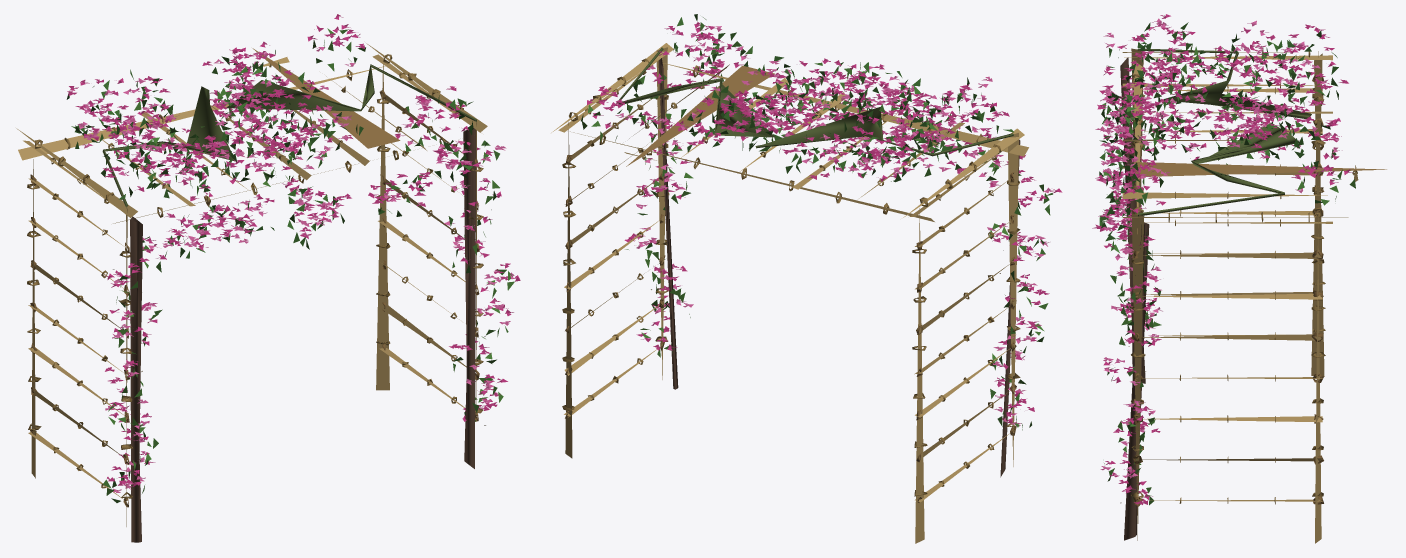
File: gian_bong_giay.glb
3 views of the same model, side by side, from view 1: azimuth 30°, elevation 25°; view 2: azimuth 150°, elevation 25°; view 3: azimuth 270°, elevation 25° (orthographic). The views are drawn at different scales.
Visible parts, largest first — view 1: gian_bong_giay; view 2: gian_bong_giay; view 3: gian_bong_giay.
Boxes of the visible parts, x1=… form: gian_bong_giay: x1=16, y1=14, x2=520, y2=542; gian_bong_giay: x1=551, y1=14, x2=1062, y2=543; gian_bong_giay: x1=1092, y1=14, x2=1386, y2=543.
Size of the model in its own units: 3.11 by 2.76 by 2.
